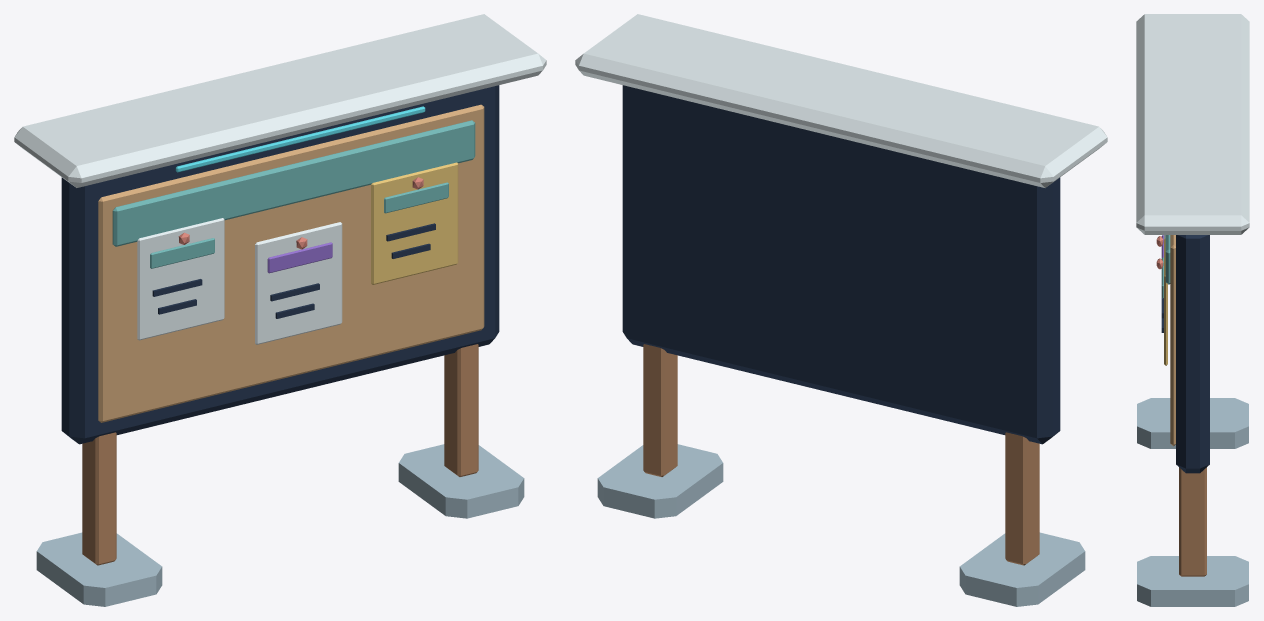
3 renders of one model, left to right at view 1: azimuth 30°, elevation 25°; view 2: azimuth 150°, elevation 25°; view 3: azimuth 270°, elevation 25°, orthographic. The views are drawn at different scales.
Visible parts, largest first — view 1: campus_noticeboard; view 2: campus_noticeboard; view 3: campus_noticeboard.
Boxes of the visible parts, left/top/right/bottom form: campus_noticeboard: left=14, top=14, right=546, bottom=606; campus_noticeboard: left=575, top=14, right=1107, bottom=606; campus_noticeboard: left=1136, top=14, right=1249, bottom=606.
Size of the model in its own units: 3.17 by 2.81 by 0.73.
Materials: 1 (1 with a texture image).
